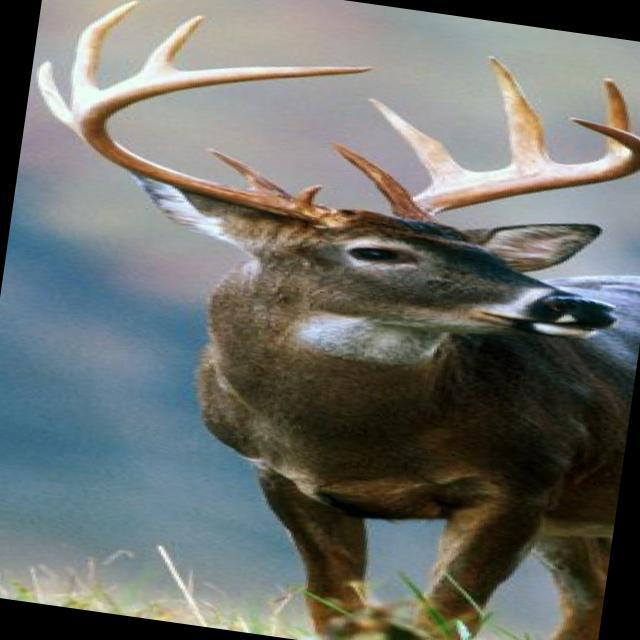L-F: (391, 117, 640, 225)
L-G1: (328, 143, 413, 207)
L-G2: (364, 97, 469, 187)
L-G3: (485, 53, 554, 167)
R-F: (71, 64, 375, 233)
R-G1: (295, 179, 327, 208)
R-G2: (197, 143, 292, 199)
R-G3: (33, 58, 69, 128)
R-G4: (64, 0, 147, 111)
R-G5: (135, 10, 209, 73)
